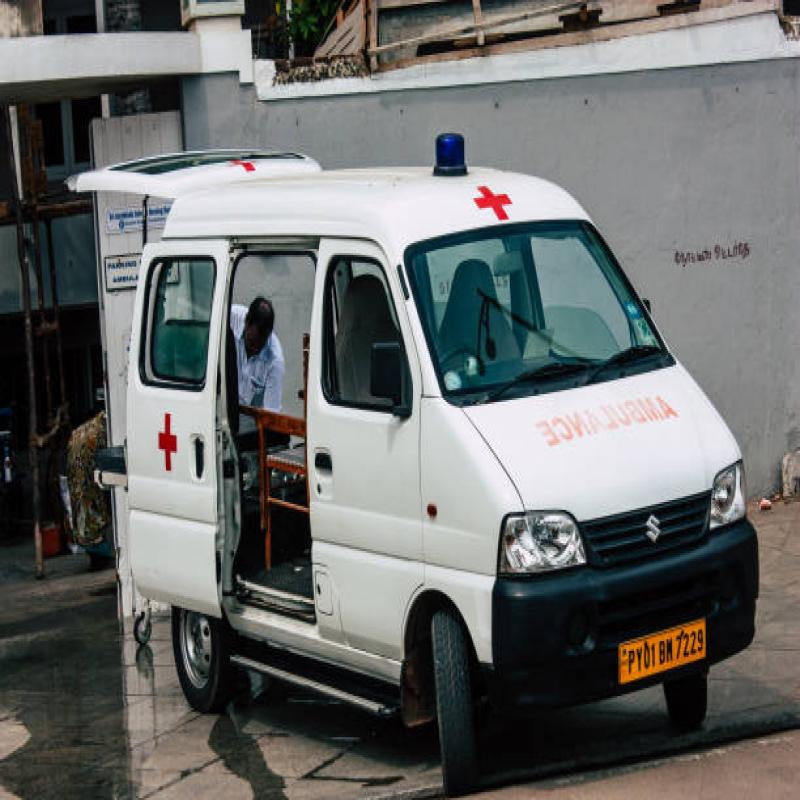ambulance: (93, 91, 772, 786)
